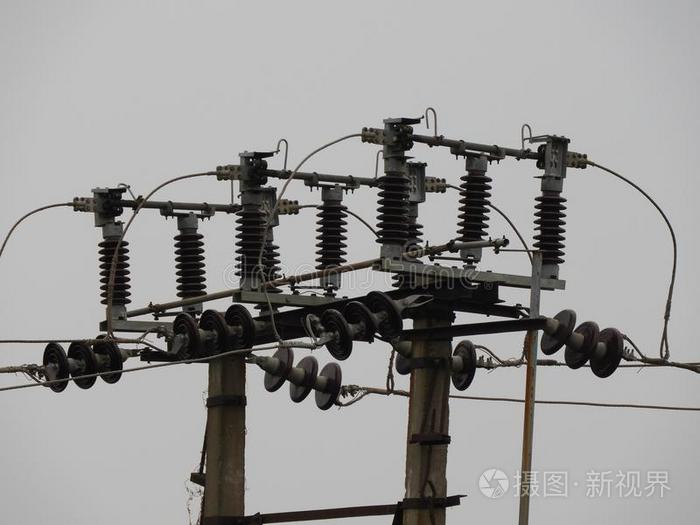insulator: (322, 291, 406, 362), (542, 309, 623, 378), (264, 346, 342, 411), (173, 306, 257, 364), (42, 337, 124, 393), (450, 342, 479, 392)
